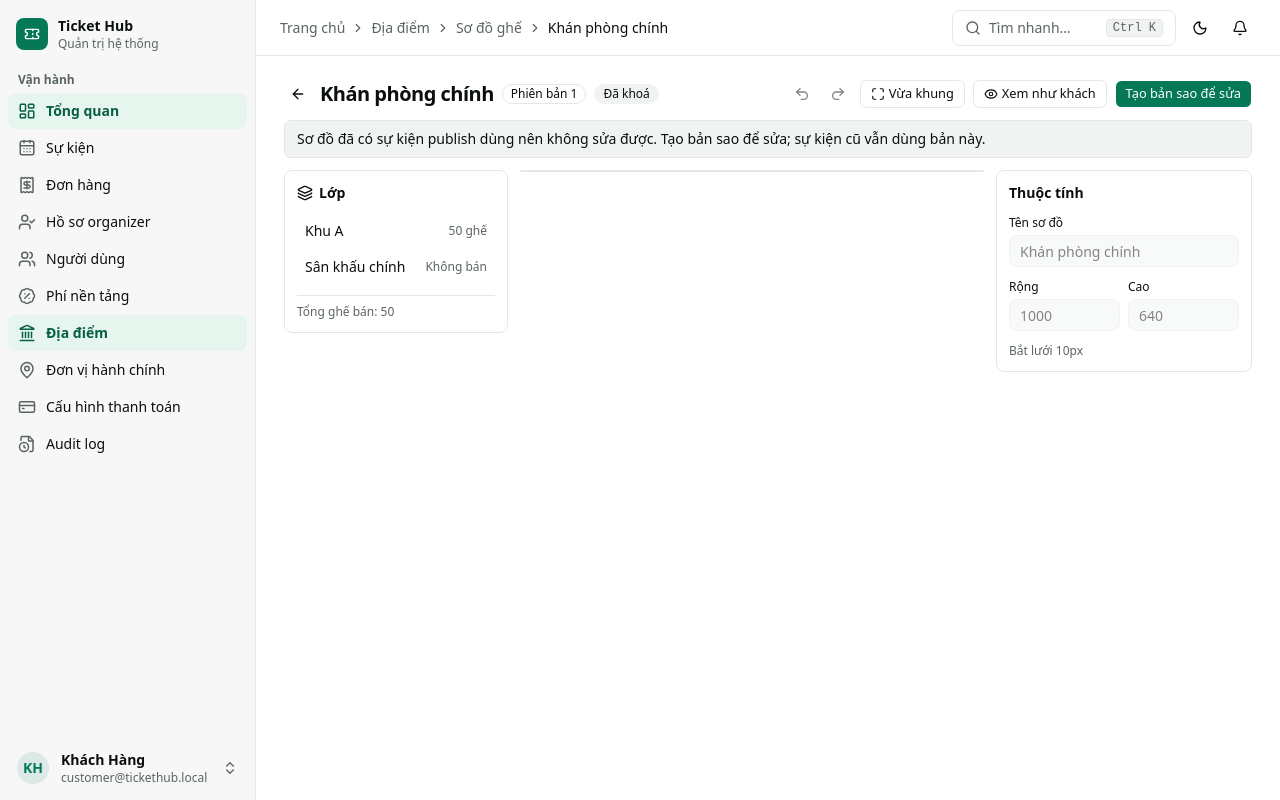
Test case: Editor sơ đồ ghế › sơ đồ đã khoá: chỉ xem, có thông báo và nút "Tạo bản sao để sửa", không có nút lưu
Check: the message shows "Sơ đồ đã có sự kiện publish dùng", box [297, 129, 986, 148]
Check: the button "Lưu sơ đồ" is not shown
What coordinates should you click on to do the following:
click the button "Khu A 50 ghế"
I would click on:
 (396, 231)
Its box is [297, 215, 495, 247].
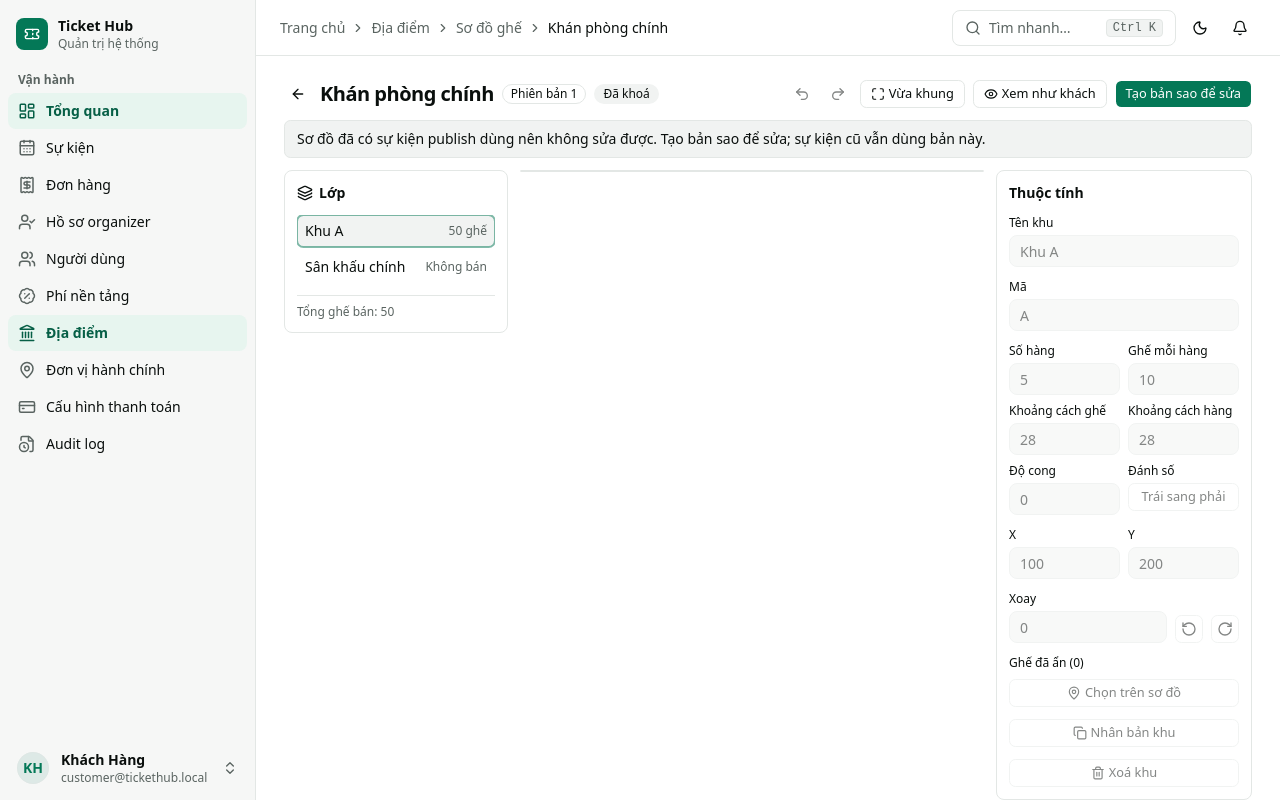
Check: the field named "Tên khu" is disabled, box [1009, 235, 1239, 267]
What coordinates should you click on to do the following:
click the button "Tạo bản sao để sửa"
I would click on:
 (1183, 94)
Its box is [1115, 80, 1252, 108].
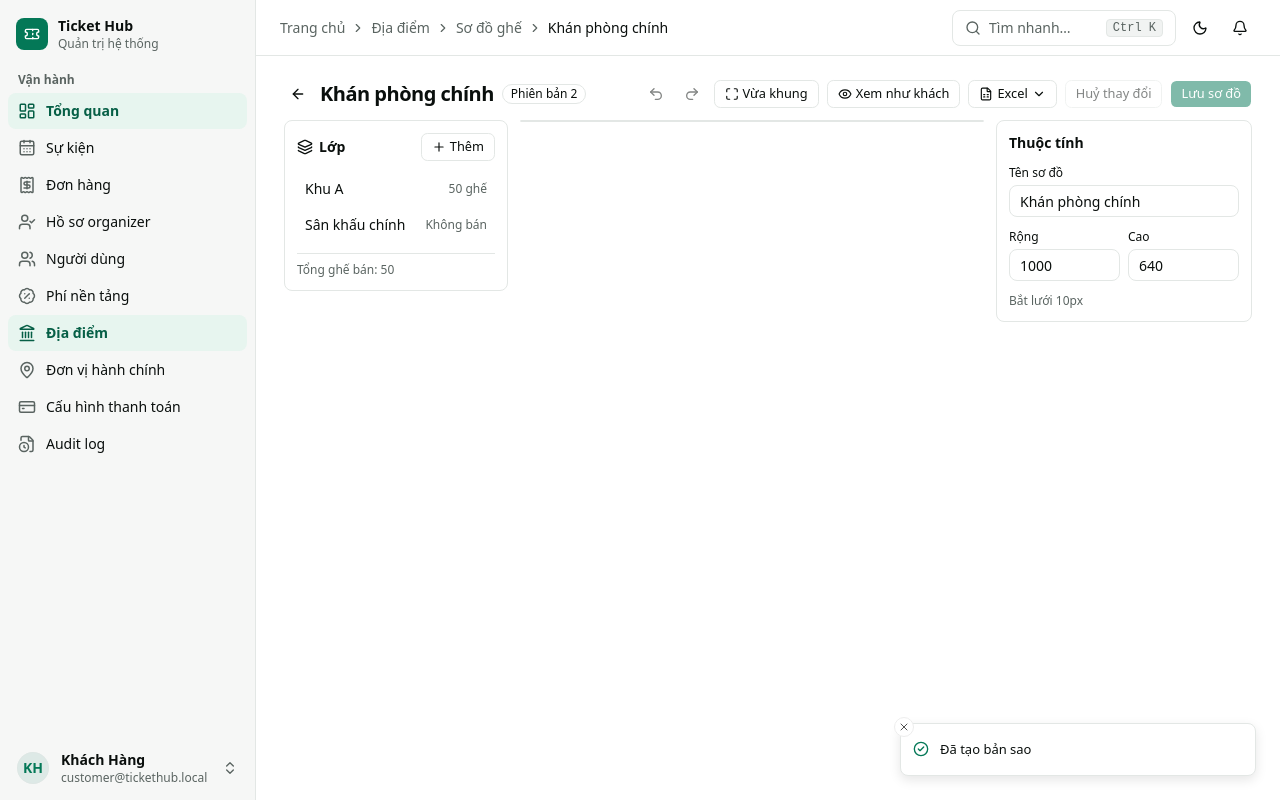
Check: the text "Phiên bản 2" is shown, box [502, 84, 586, 104]
